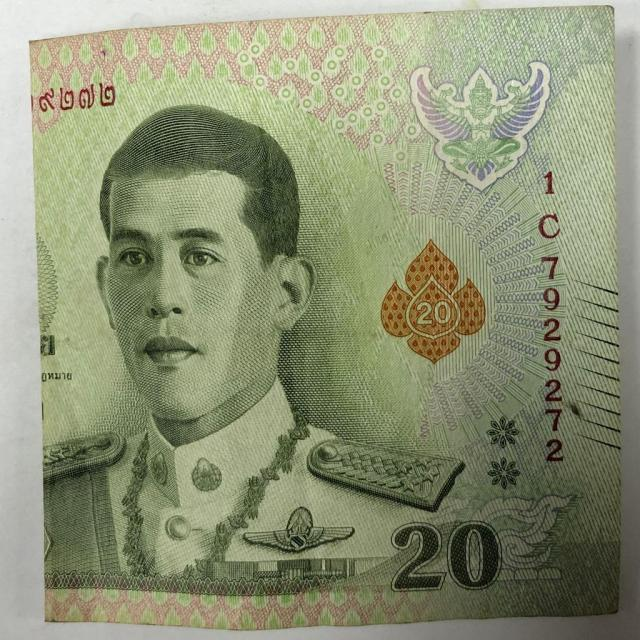THAI20: (30, 6, 620, 629)
